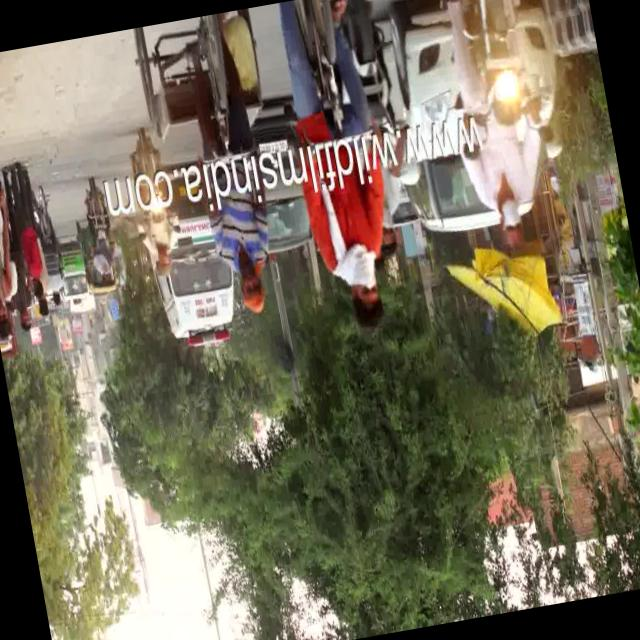ambulance: (163, 212, 234, 352)
